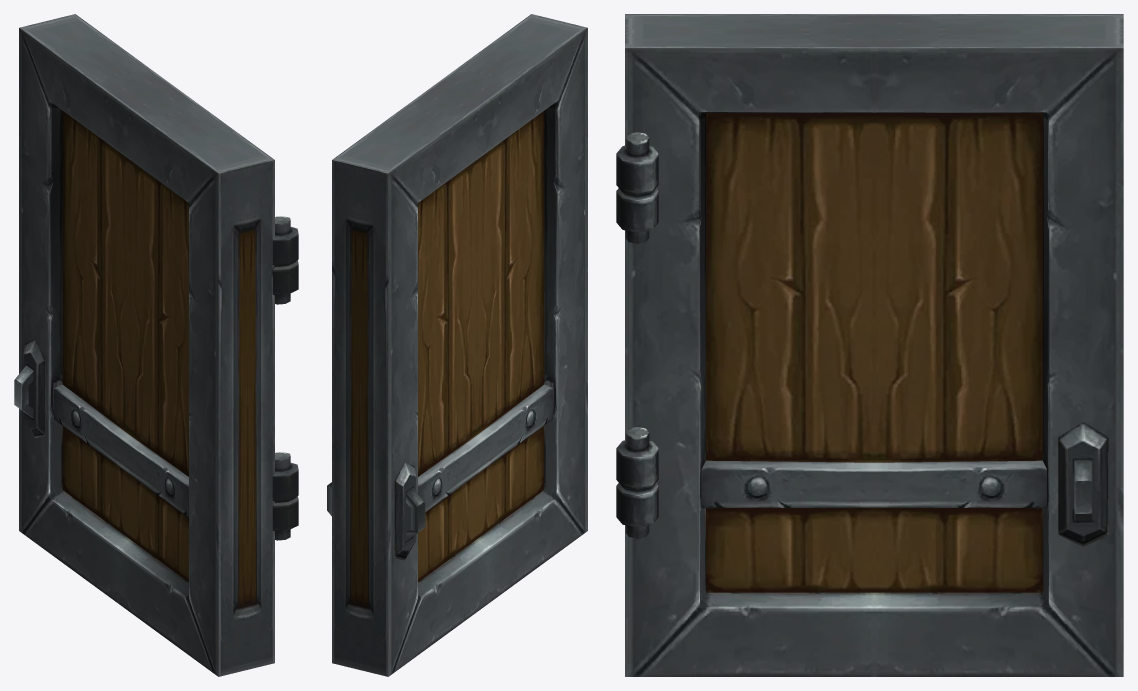
3 renders of one model, left to right at view 1: azimuth 30°, elevation 25°; view 2: azimuth 150°, elevation 25°; view 3: azimuth 270°, elevation 25°, orthographic. The views are drawn at different scales.
Bounding box in the file's own units: 0.8296 × 3.94 × 2.88.
1 material, 1 textured.
